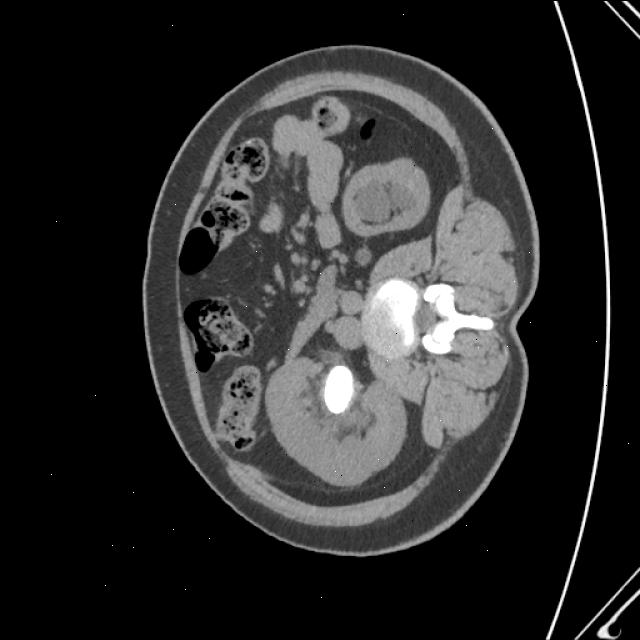kidneystone: (324, 365, 354, 414)
